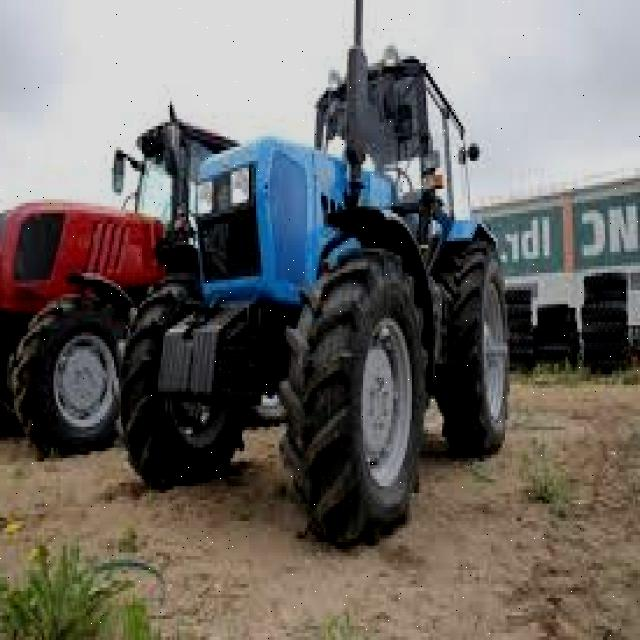Tratores - v5 YOLO V8L 2024-11-13: (121, 57, 512, 544), (0, 127, 241, 458)
